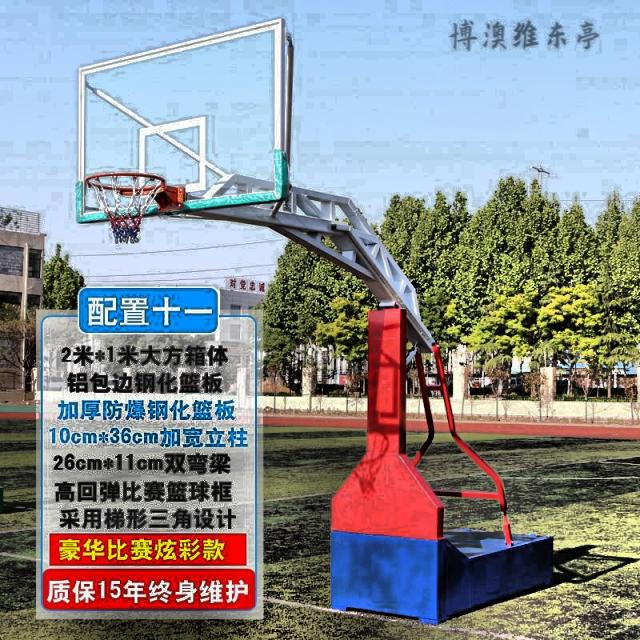rim: (85, 170, 165, 242)
